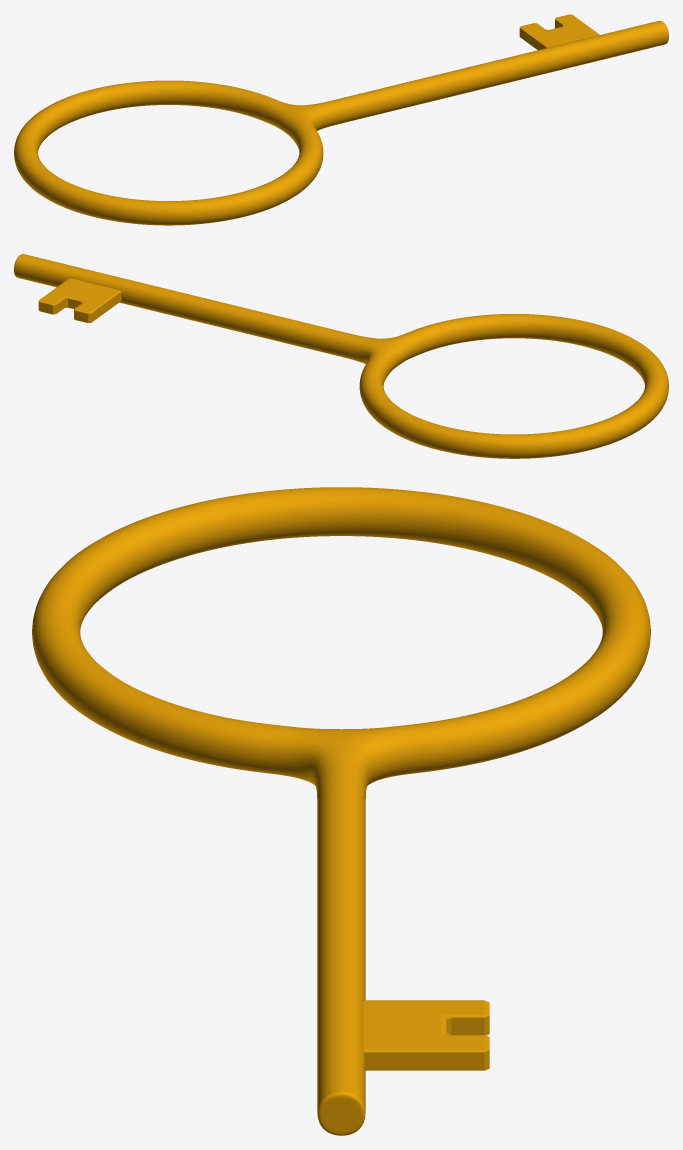
File: key.fbx
3 views of the same model, one above another, from view 1: azimuth 30°, elevation 25°; view 2: azimuth 150°, elevation 25°; view 3: azimuth 270°, elevation 25° (orthographic). The views are drawn at different scales.
Visible parts, largest first — view 1: Circle, Cube; view 2: Circle, Cube; view 3: Circle, Cube.
Boxes of the visible parts, x1,y1,x2,y2 form: Circle: (14, 20, 668, 225); Cube: (519, 14, 599, 49); Circle: (14, 254, 668, 458); Cube: (38, 278, 121, 323); Circle: (32, 487, 650, 1135); Cube: (363, 1000, 489, 1070).
Size of the model in its own units: 254 by 8.92 by 108.
